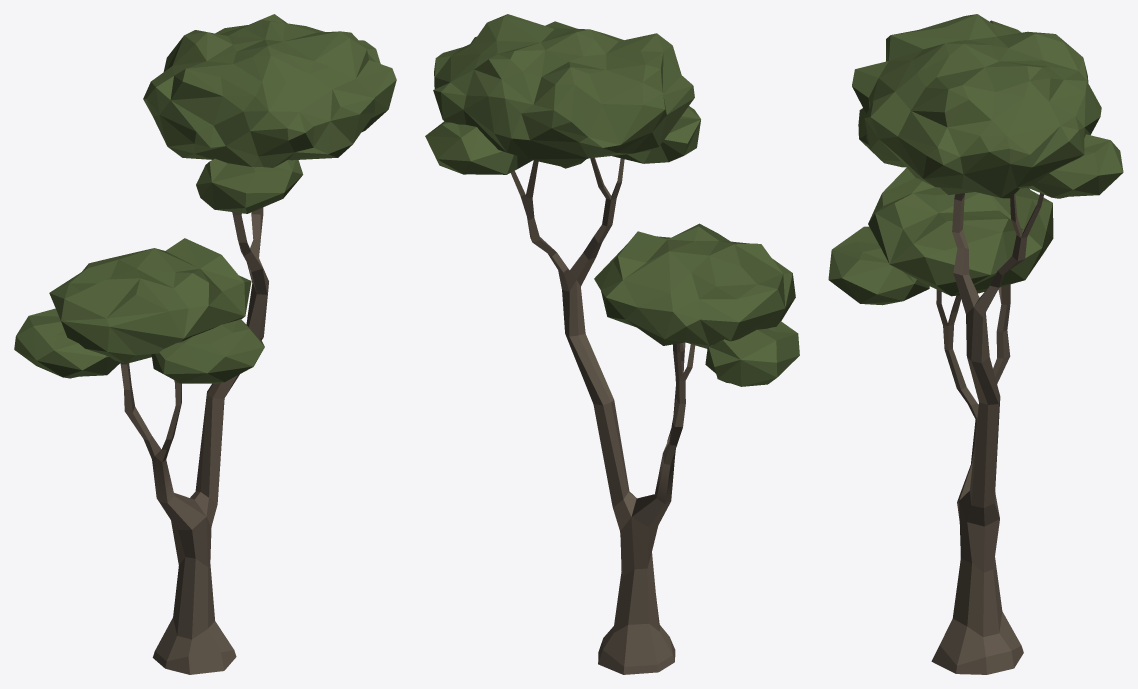
File: Tree_104.fbx
3 renders of one model, left to right at view 1: azimuth 30°, elevation 25°; view 2: azimuth 150°, elevation 25°; view 3: azimuth 270°, elevation 25°, orthographic. The views are drawn at different scales.
Visible parts, largest first — view 1: Tree_104; view 2: Tree_104; view 3: Tree_104.
Part boxes in pixels (<box>): Tree_104: <box>14,14,396,674</box>; Tree_104: <box>425,14,799,674</box>; Tree_104: <box>828,14,1123,674</box>.
Bounding box in the file's own units: 0.4687 × 0.774 × 0.3193.
1 material, 1 textured.
